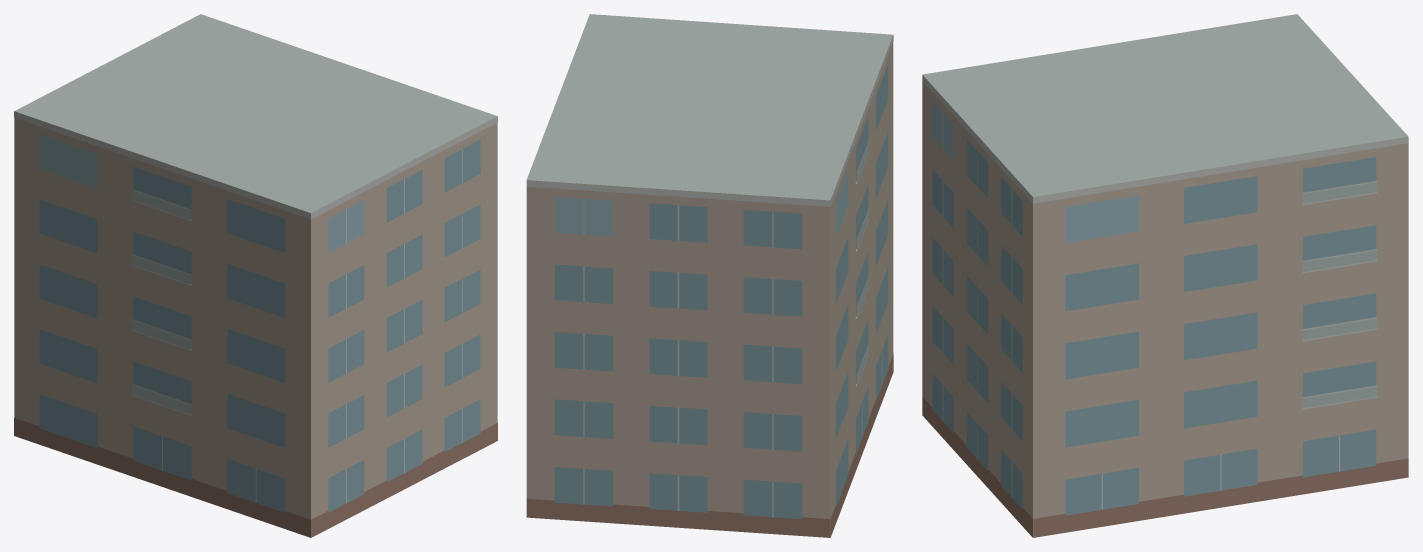
The model's file is survey-upis-32835336.glb.
The picture shows the model from 3 angles, left to right: view 1: azimuth 30°, elevation 25°; view 2: azimuth 150°, elevation 25°; view 3: azimuth 270°, elevation 25°; orthographic projection. The views are drawn at different scales.
Parts seen in each view (by area): view 1: survey-upis-32835336.tmp; view 2: survey-upis-32835336.tmp; view 3: survey-upis-32835336.tmp.
Boxes of the visible parts, left/top/right/bottom form: survey-upis-32835336.tmp: left=14, top=14, right=497, bottom=537; survey-upis-32835336.tmp: left=526, top=14, right=893, bottom=537; survey-upis-32835336.tmp: left=922, top=14, right=1408, bottom=537.
Bounding box in the file's own units: 14.59 × 12.65 × 16.37.
